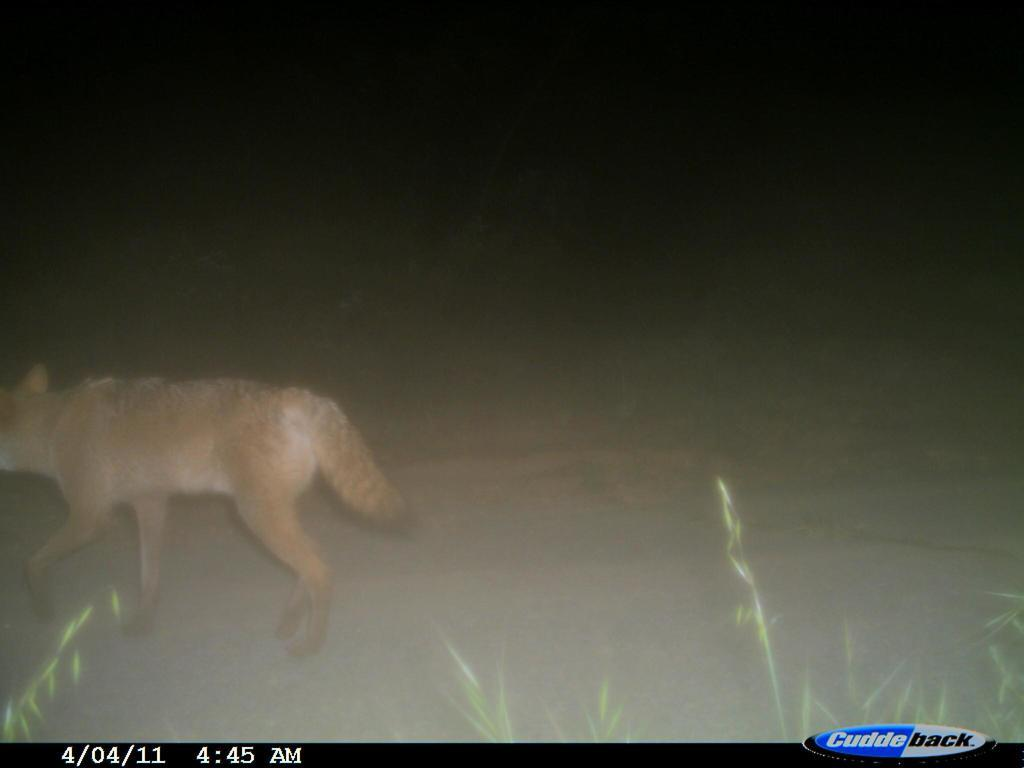coyote: (6, 345, 410, 664)
